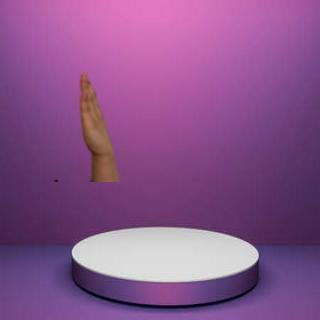RIGHT: (71, 68, 116, 154)
